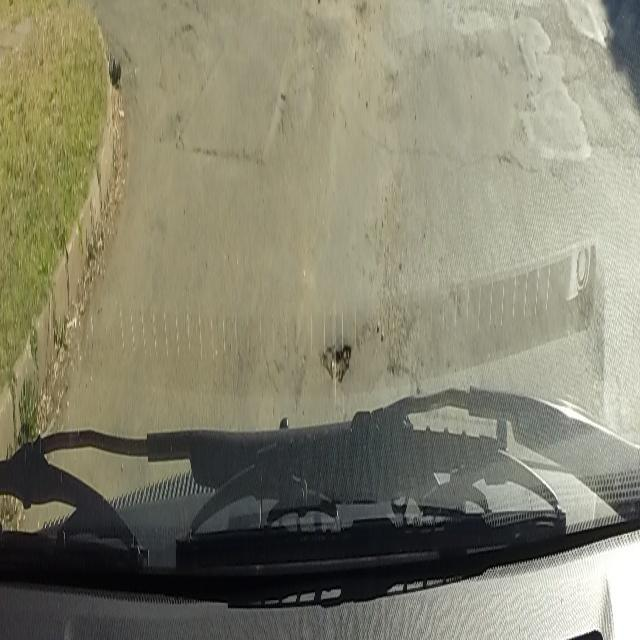pothole: (319, 340, 352, 390)
